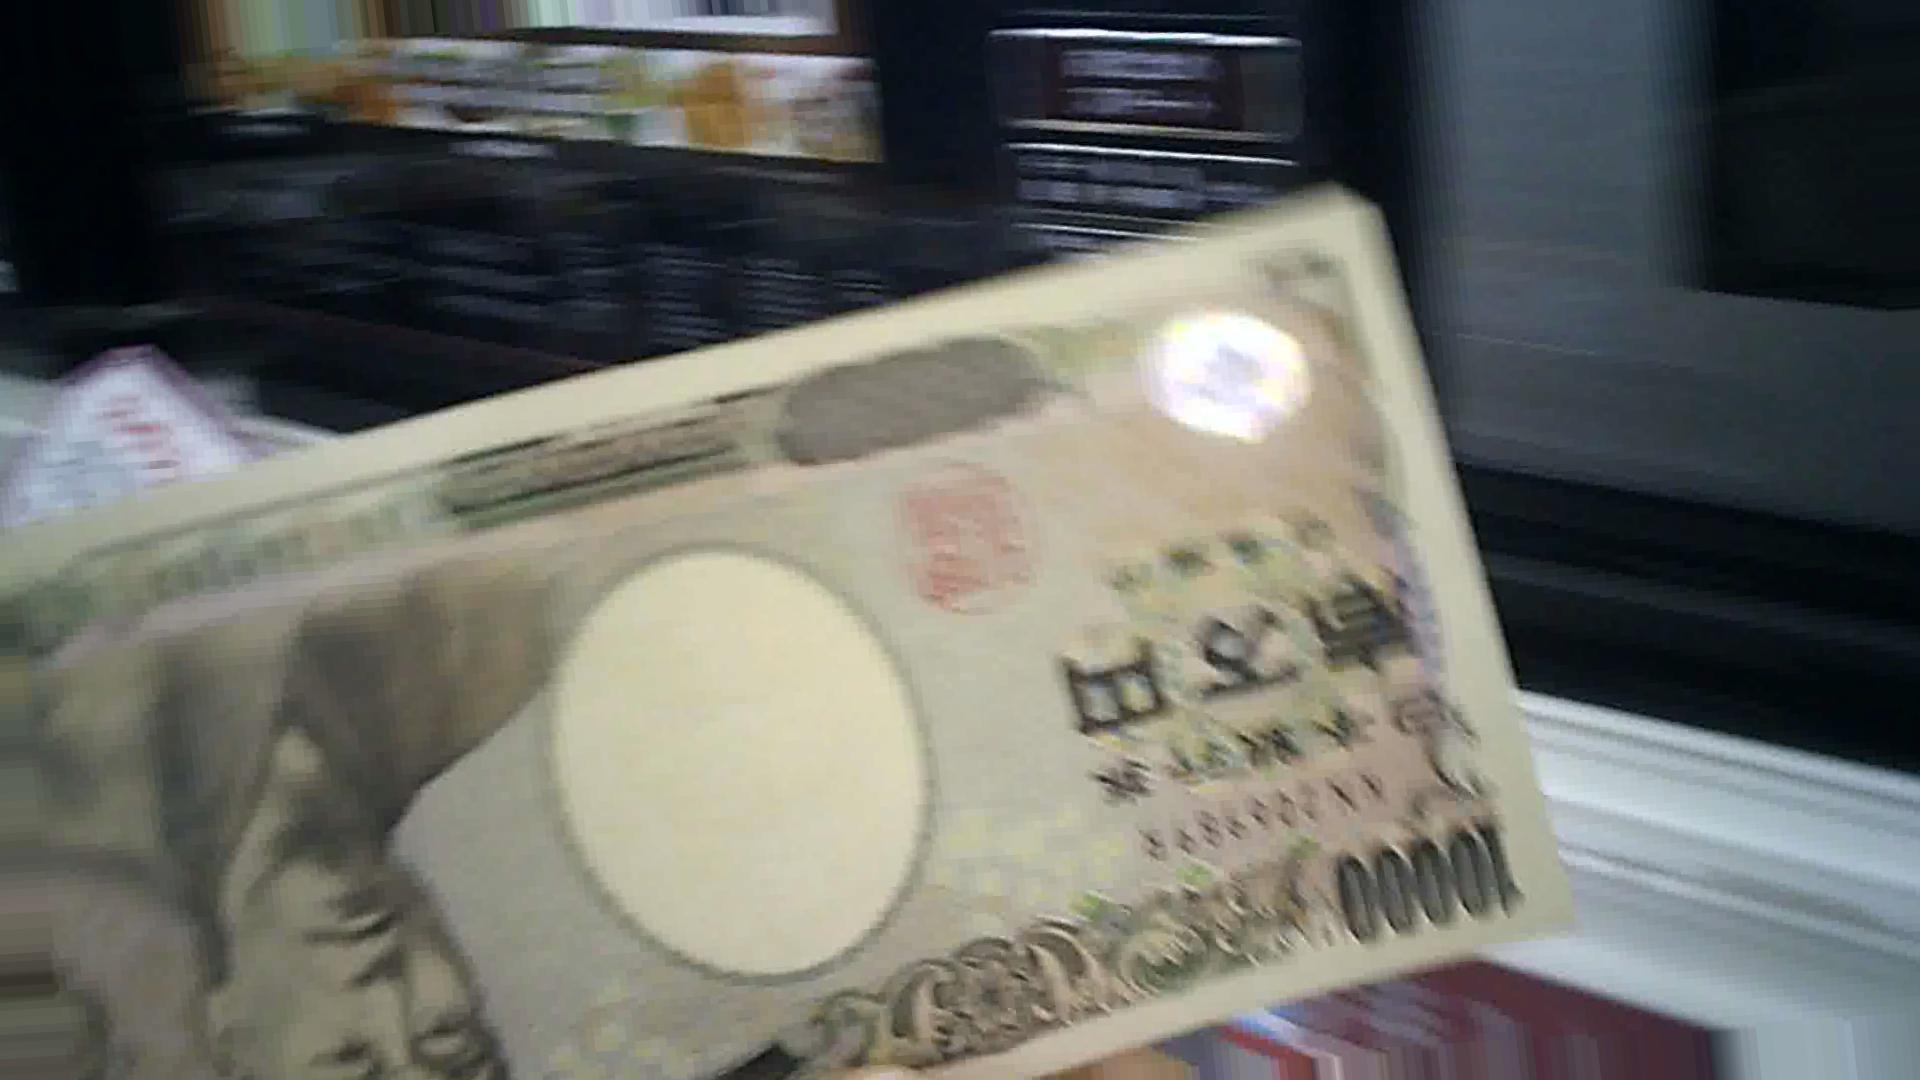10,000 Yen: (28, 243, 1553, 1062)
